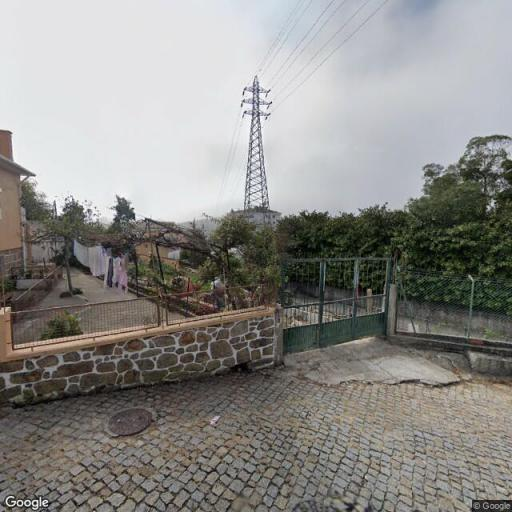ss_3: (241, 74, 275, 224)
